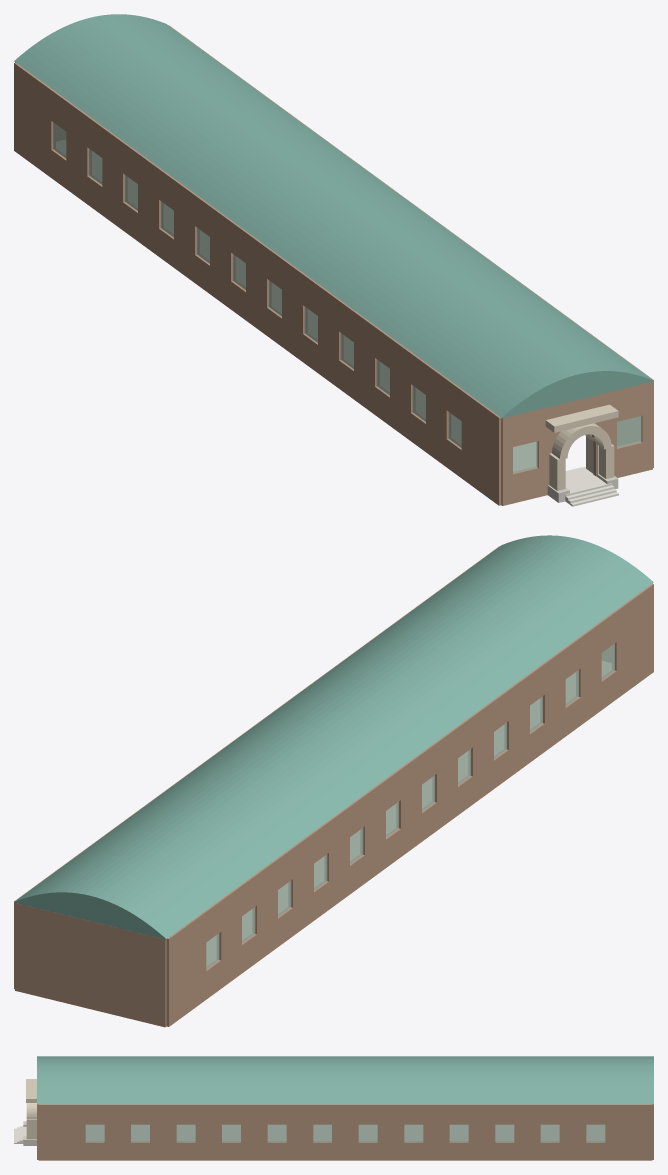
Rendered from Aquarium_Arched_Entrance_Study_LOD1.glb.
3 views of the same model, one above another, from view 1: azimuth 30°, elevation 25°; view 2: azimuth 150°, elevation 25°; view 3: azimuth 270°, elevation 25° (orthographic). The views are drawn at different scales.
Parts seen in each view (by area): view 1: Roof/PatinatedCopperPanels__copper, Facade/LongBrickWallAboveWindows__brick, Facade/LongBrickWallBelowWindows__brick, Facade/BrickWindowJambs__brick, Facade/SideWindows__greenGlass, Facade/FrontBrickAboveWindows__brick, Facade/FrontBrickBelowWindows__brick, Facade/FrontBrickWindowJambs__brick, Facade/FrontWindows__greenGlass, Portal/EngravedSignStone__limestone, Portal/StoneColumns__limestone, Portal/StoneVoussoirs__limestone (+1 smaller); view 2: Roof/PatinatedCopperPanels__copper, Facade/LongBrickWallAboveWindows__brick, Facade/LongBrickWallBelowWindows__brick, Facade/RearWall__brick, Facade/BrickWindowJambs__brick, Facade/SideWindows__greenGlass; view 3: Roof/PatinatedCopperPanels__copper, Facade/LongBrickWallAboveWindows__brick, Facade/LongBrickWallBelowWindows__brick, Facade/BrickWindowJambs__brick, Facade/SideWindows__greenGlass, Portal/EngravedSignStone__limestone, Portal/StoneColumns__limestone, Entrance/OutsideSteps__marble.
Part boxes in pixels (bbox=[...]): Roof/PatinatedCopperPanels__copper: bbox=[14, 14, 653, 418]; Facade/LongBrickWallAboveWindows__brick: bbox=[14, 25, 653, 448]; Facade/LongBrickWallBelowWindows__brick: bbox=[14, 122, 653, 505]; Facade/BrickWindowJambs__brick: bbox=[14, 94, 653, 477]; Facade/SideWindows__greenGlass: bbox=[53, 122, 461, 447]; Facade/FrontBrickAboveWindows__brick: bbox=[501, 381, 652, 449]; Facade/FrontBrickBelowWindows__brick: bbox=[501, 440, 652, 505]; Facade/FrontBrickWindowJambs__brick: bbox=[501, 413, 652, 476]; Facade/FrontWindows__greenGlass: bbox=[513, 416, 641, 473]; Portal/EngravedSignStone__limestone: bbox=[545, 404, 618, 432]; Portal/StoneColumns__limestone: bbox=[549, 444, 614, 490]; Portal/StoneVoussoirs__limestone: bbox=[552, 423, 611, 459]; Roof/PatinatedCopperPanels__copper: bbox=[14, 535, 653, 939]; Facade/LongBrickWallAboveWindows__brick: bbox=[14, 546, 653, 969]; Facade/LongBrickWallBelowWindows__brick: bbox=[14, 644, 653, 1026]; Facade/RearWall__brick: bbox=[15, 903, 166, 1027]; Facade/BrickWindowJambs__brick: bbox=[14, 615, 653, 998]; Facade/SideWindows__greenGlass: bbox=[206, 643, 614, 969]; Roof/PatinatedCopperPanels__copper: bbox=[37, 1056, 653, 1104]; Facade/LongBrickWallAboveWindows__brick: bbox=[38, 1104, 652, 1124]; Facade/LongBrickWallBelowWindows__brick: bbox=[38, 1142, 652, 1160]; Facade/BrickWindowJambs__brick: bbox=[38, 1124, 652, 1142]; Facade/SideWindows__greenGlass: bbox=[85, 1124, 605, 1142]; Portal/EngravedSignStone__limestone: bbox=[26, 1079, 36, 1102]; Portal/StoneColumns__limestone: bbox=[26, 1119, 36, 1139]; Entrance/OutsideSteps__marble: bbox=[14, 1125, 25, 1143].
Bounding box in the file's own units: 14.02 × 9.8 × 79.25.
